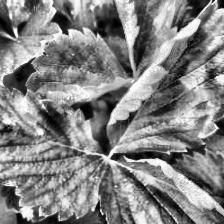Powdery Mildew Leaf: (104, 0, 224, 154), (0, 79, 109, 222), (24, 27, 136, 108), (96, 154, 224, 224), (105, 0, 180, 78)
